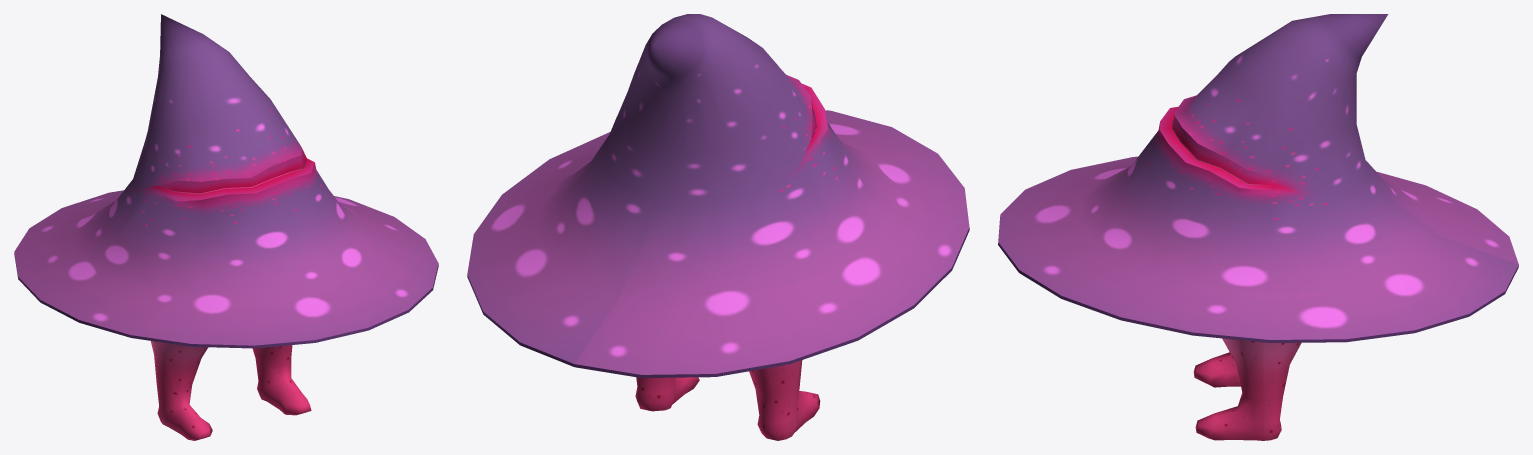
File: player_new (2).fbx
3 views of the same model, side by side, from view 1: azimuth 30°, elevation 25°; view 2: azimuth 150°, elevation 25°; view 3: azimuth 270°, elevation 25° (orthographic). The views are drawn at different scales.
Visible parts, largest first — view 1: hat, dude; view 2: hat, dude; view 3: hat, dude.
Part boxes in pixels (<box>): hat: <box>14,14,438,348</box>; dude: <box>150,168,311,440</box>; hat: <box>467,14,969,377</box>; dude: <box>635,360,820,440</box>; hat: <box>998,14,1518,342</box>; dude: <box>1183,144,1301,440</box>.
Bounding box in the file's own units: 23.94 × 28.13 × 23.28.
Materials: 2 (2 with a texture image).
